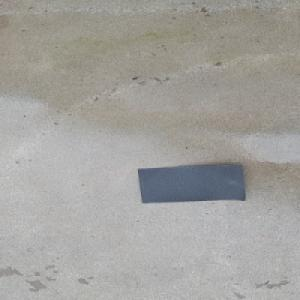PaintChip: (136, 164, 246, 203)
